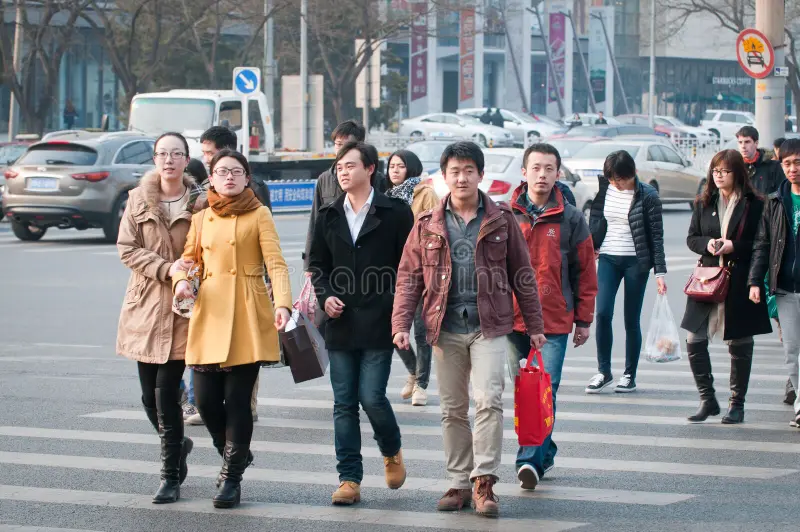car: (127, 83, 399, 212), (1, 129, 197, 251), (421, 150, 603, 225), (558, 134, 712, 215), (398, 110, 513, 147)
person: (391, 140, 543, 520), (176, 151, 292, 508), (308, 144, 415, 505), (501, 142, 595, 492), (119, 131, 198, 505), (682, 148, 765, 425), (582, 147, 669, 393), (748, 139, 800, 428), (382, 147, 438, 218), (730, 124, 782, 197)
